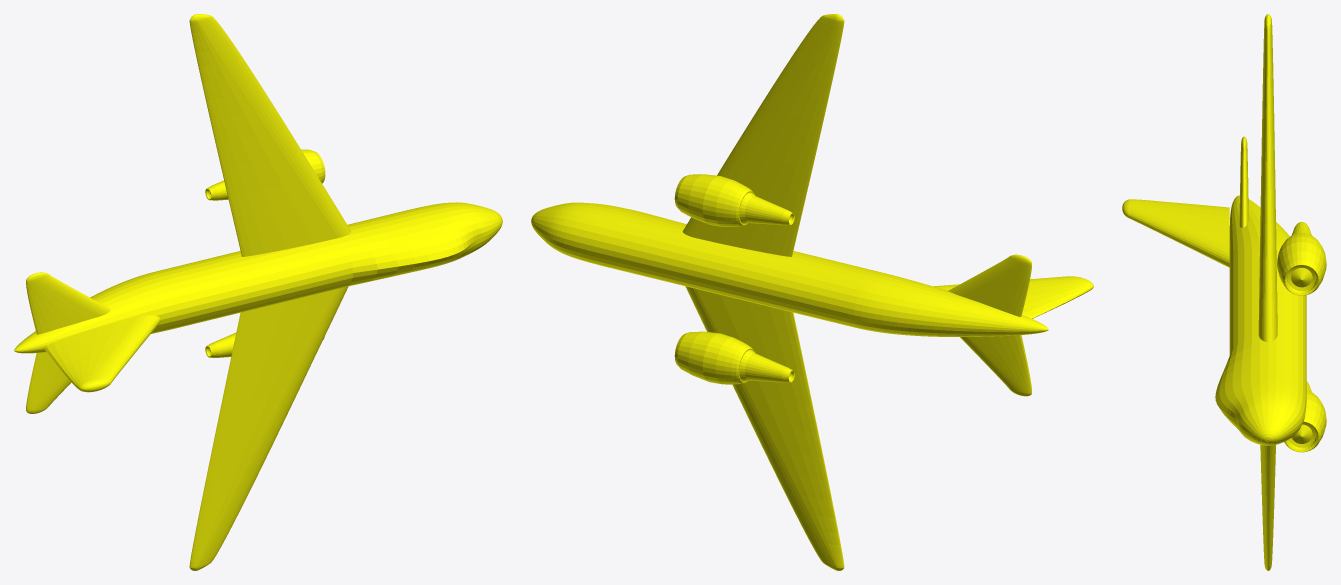
File: boeing_3.obj
3 views of the same model, side by side, from view 1: azimuth 30°, elevation 25°; view 2: azimuth 150°, elevation 25°; view 3: azimuth 270°, elevation 25° (orthographic).
Parts seen in each view (by area): view 1: Boeing; view 2: Boeing; view 3: Boeing.
Boxes of the visible parts, left/top/right/bottom form: Boeing: left=14, top=14, right=502, bottom=570; Boeing: left=531, top=14, right=1093, bottom=570; Boeing: left=1122, top=14, right=1326, bottom=570.
Size of the model in its own units: 60 by 63.6 by 21.29.
